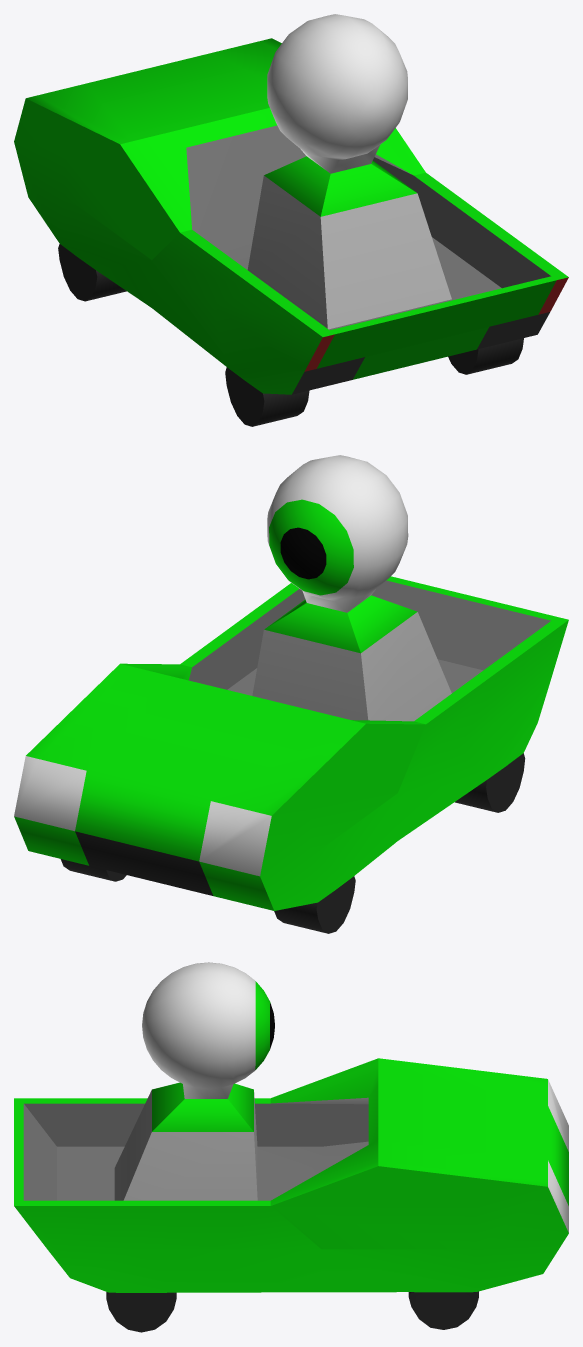
File: WarExplorerGreen.fbx
The picture shows the model from 3 angles, top to bottom: view 1: azimuth 30°, elevation 25°; view 2: azimuth 150°, elevation 25°; view 3: azimuth 270°, elevation 25°; orthographic projection. The views are drawn at different scales.
Parts seen in each view (by area): view 1: pSphere2; view 2: pSphere2; view 3: pSphere2.
Part boxes in pixels (x1,y1,x2,y2): pSphere2: (14, 14, 568, 426); pSphere2: (14, 455, 568, 933); pSphere2: (14, 962, 568, 1332).
Size of the model in its own units: 2.1 by 2.64 by 4.31.
